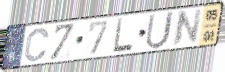7: (50, 22, 77, 62), (87, 19, 109, 57)
C: (23, 27, 51, 63)
L: (111, 17, 134, 55)
N: (170, 7, 203, 49)
U: (144, 10, 176, 51)
